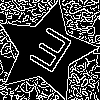E: (21, 26, 75, 82)
